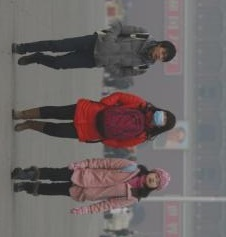person: (11, 20, 176, 82), (12, 89, 176, 149), (10, 155, 170, 216), (155, 125, 186, 147), (100, 76, 136, 89), (102, 145, 137, 158), (99, 226, 137, 237), (101, 206, 133, 217)
